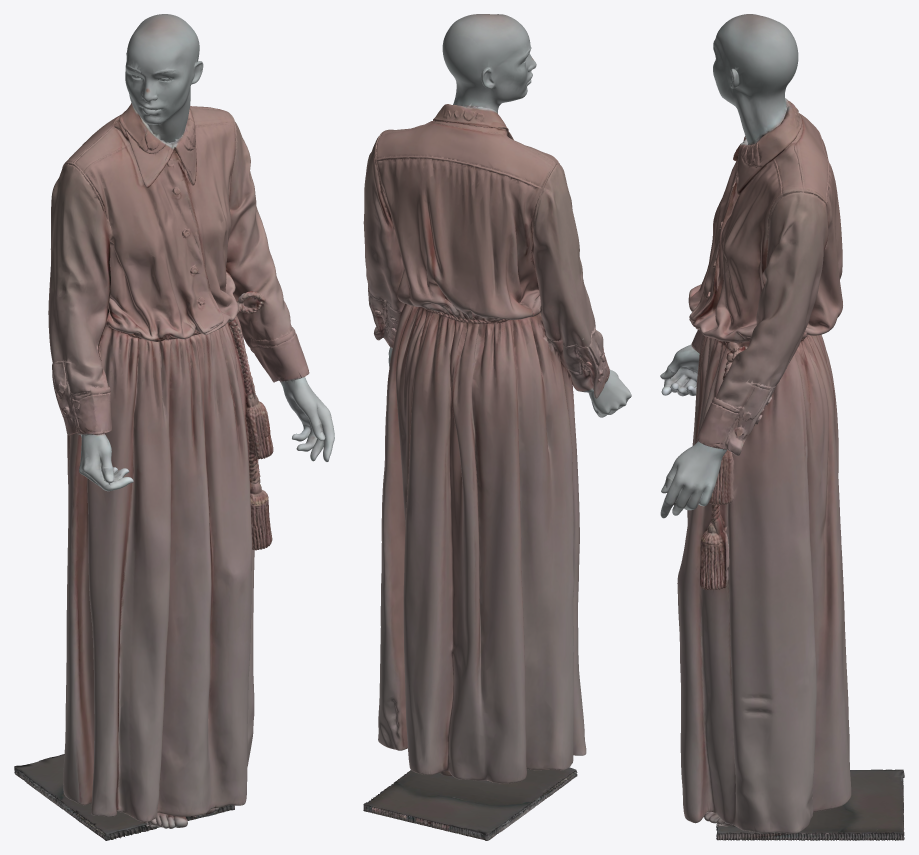
3 views of the same model, side by side, from view 1: azimuth 30°, elevation 25°; view 2: azimuth 150°, elevation 25°; view 3: azimuth 270°, elevation 25° (orthographic). The views are drawn at different scales.
Visible parts, largest first — view 1: tripo_node_404119e8-9eaa-46f9-a6af-f2b9b943a6b9; view 2: tripo_node_404119e8-9eaa-46f9-a6af-f2b9b943a6b9; view 3: tripo_node_404119e8-9eaa-46f9-a6af-f2b9b943a6b9.
Part boxes in pixels (left/top/right/bottom): tripo_node_404119e8-9eaa-46f9-a6af-f2b9b943a6b9: left=14, top=14, right=334, bottom=840; tripo_node_404119e8-9eaa-46f9-a6af-f2b9b943a6b9: left=363, top=14, right=631, bottom=840; tripo_node_404119e8-9eaa-46f9-a6af-f2b9b943a6b9: left=660, top=14, right=904, bottom=840.
Bounding box in the file's own units: 0.3203 × 0.9787 × 0.2724.
1 material, 1 textured.
